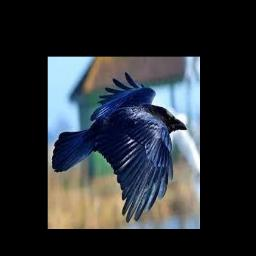Crow: (51, 71, 187, 223)
